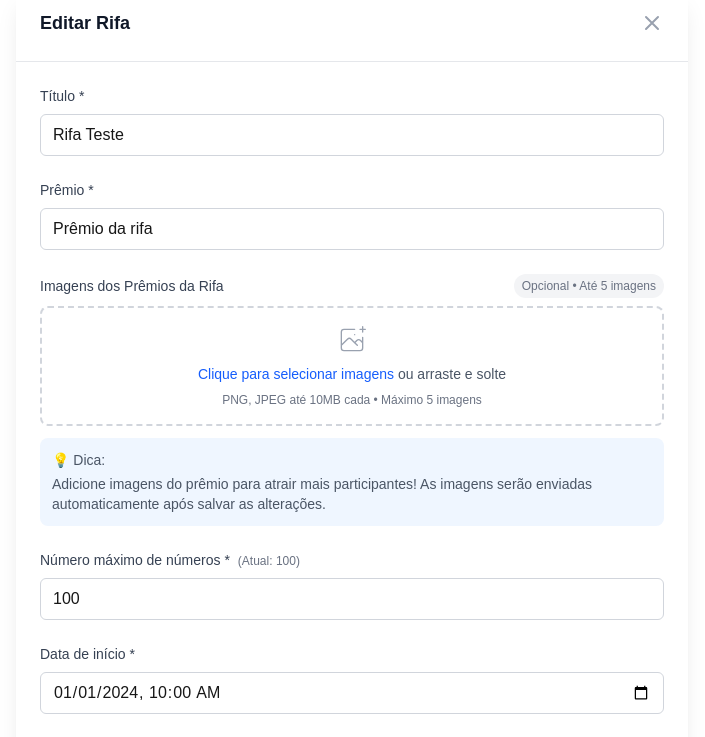
RaffleEditModal - Incremento de Números › deve atualizar o valor original após incremento bem-sucedido
The width and height of the screenshot is (705, 737).
Replace the text in the number field labelled "Número máximo de números *(Atual: 100)" with "150" at (352, 599), box [40, 578, 664, 620]
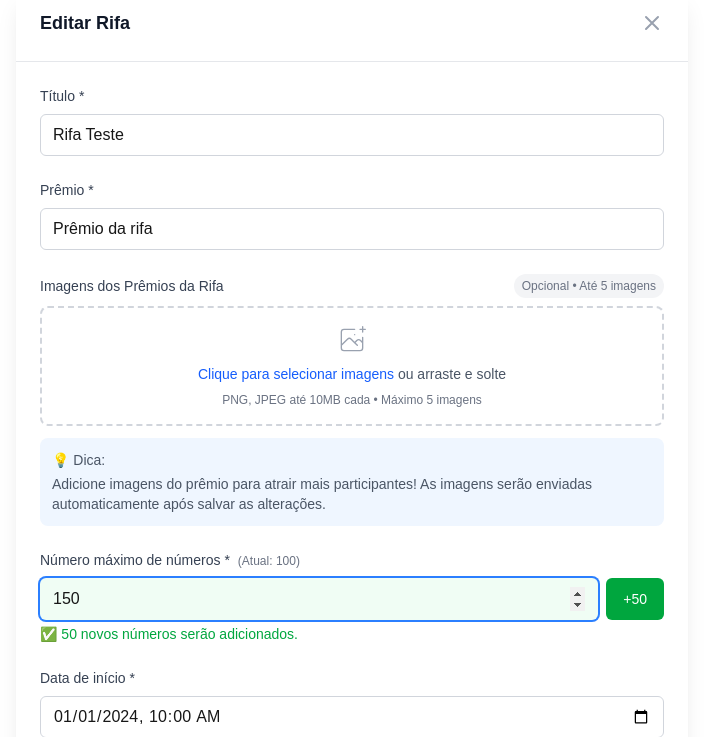
Click the button "+50".
click(635, 599)  # box [606, 578, 664, 620]
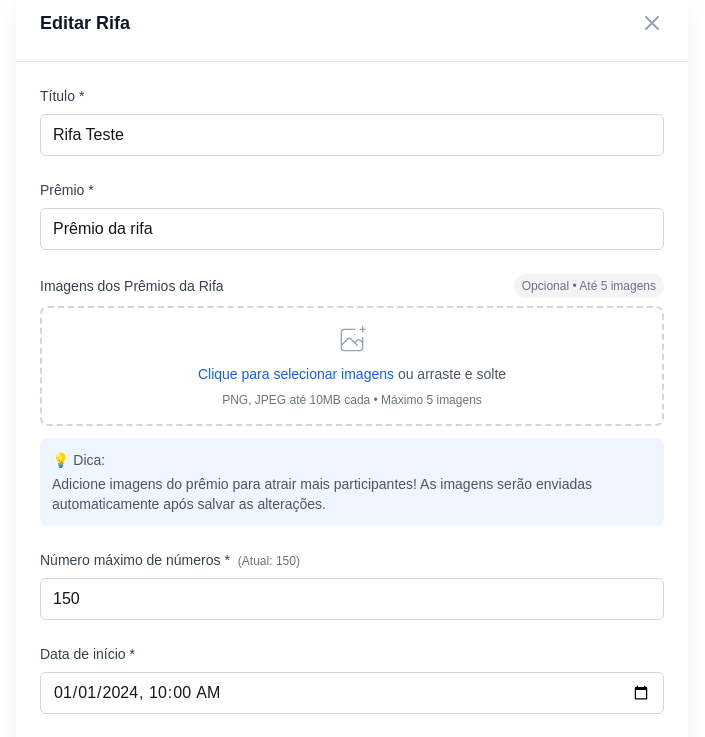
Result: the text "(Atual: 150)" is shown at [238, 554, 300, 568]
